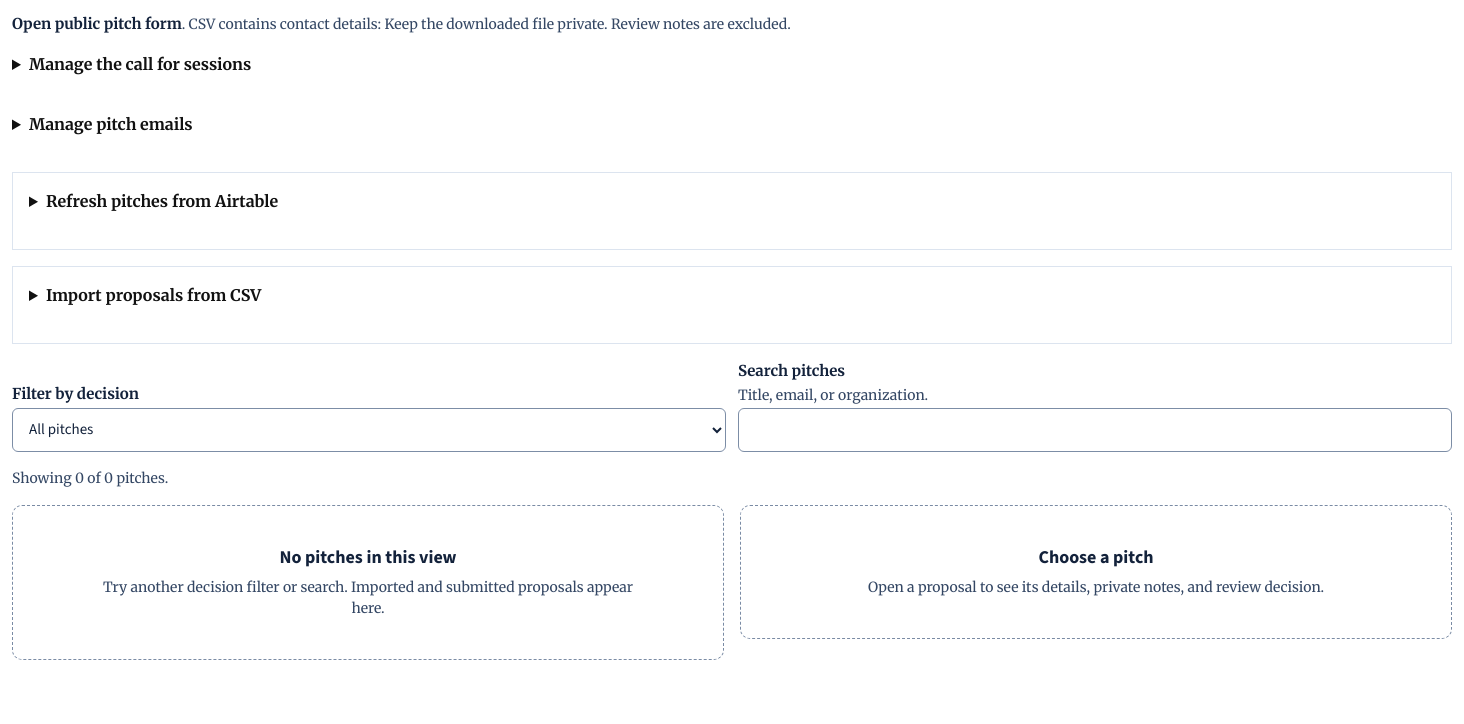
Test: AdminSessionPitches call settings › refuses a blank external address in place and keeps focus on it
Click the heading "Manage the call for sessions". click: (140, 64)
box: [29,54,251,74]
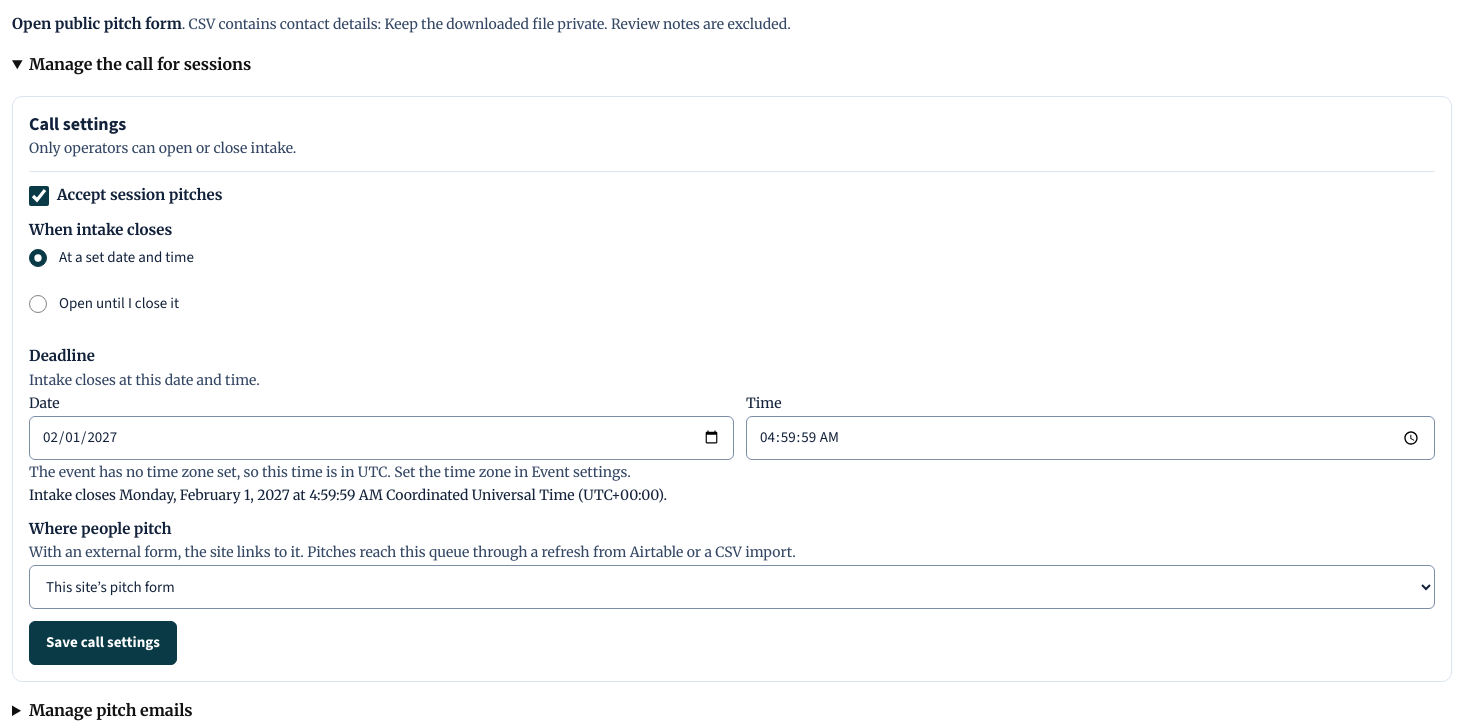
Select "An external form, such as Airtable" in the dropdown labelled "Where people pitch". click: (732, 587)
box: [29,565,1435,609]
(page scrolled)
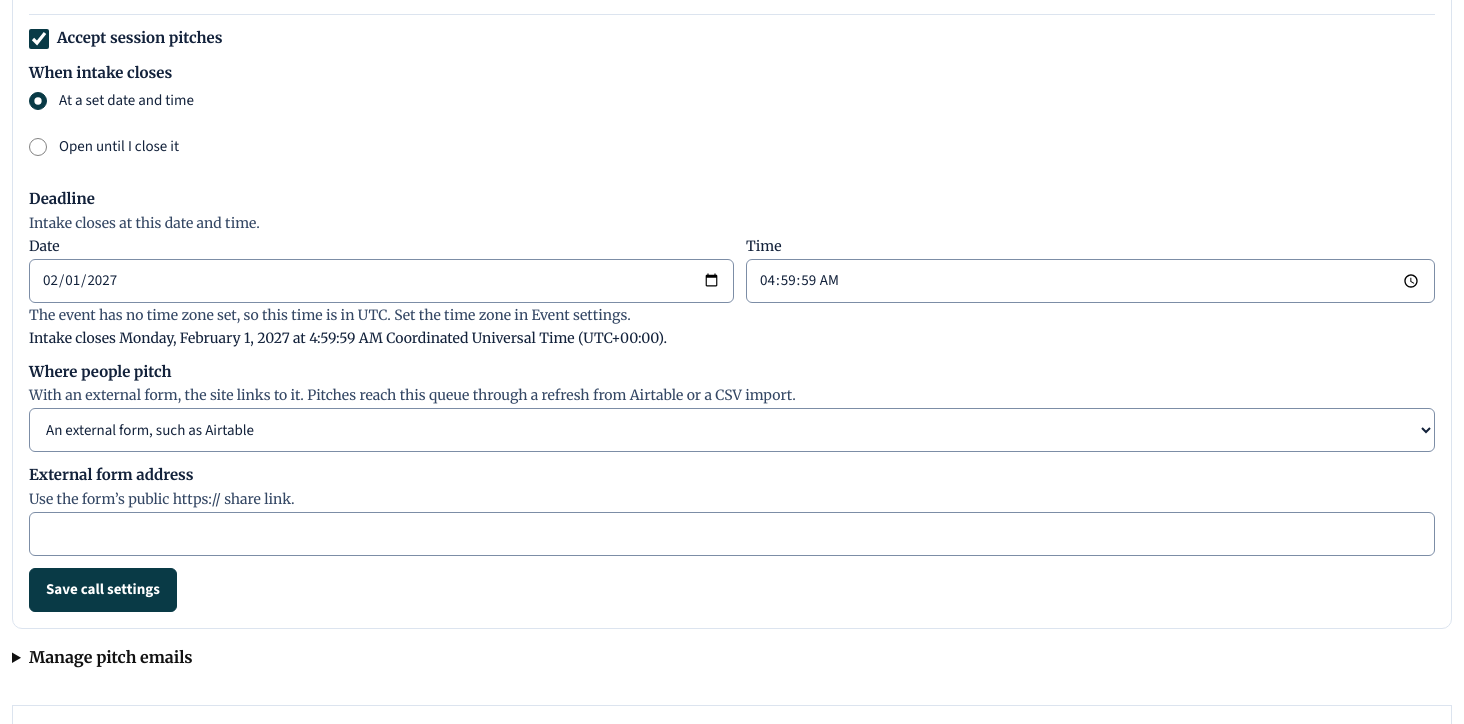
Submit the form named "Save call settings"
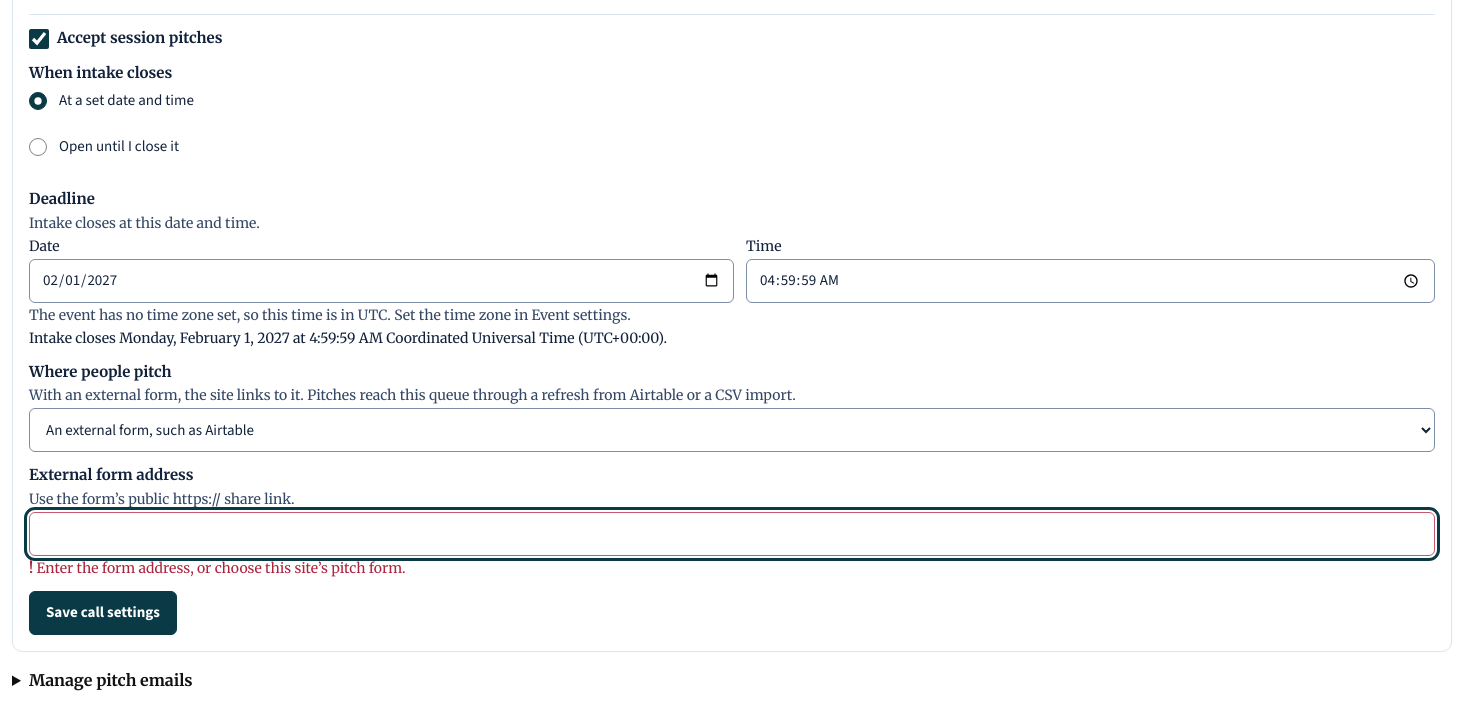
Expected: the text "Enter the form address, or choose this site’s pitch form." is shown, [36,559,406,577]
